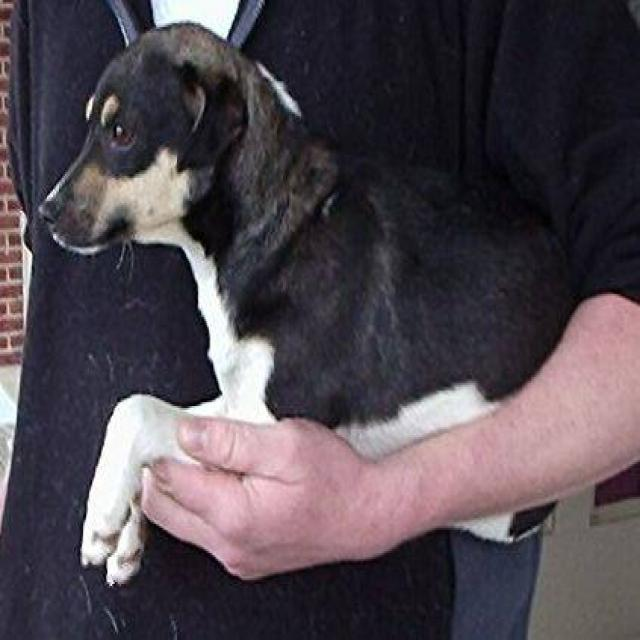dogs: (12, 9, 593, 558)
